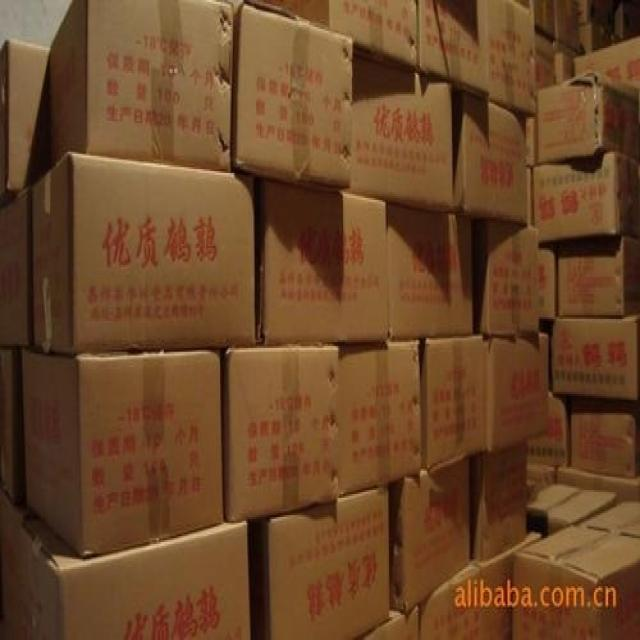box: (32, 150, 256, 354), (22, 346, 225, 557), (0, 490, 251, 640), (50, 0, 233, 173), (232, 2, 353, 192), (257, 179, 390, 346), (220, 344, 339, 525), (259, 484, 390, 640), (512, 500, 640, 640), (349, 56, 453, 213), (333, 338, 421, 496), (389, 455, 472, 613), (385, 198, 474, 344), (259, 2, 419, 73), (451, 83, 527, 225), (532, 150, 640, 242), (536, 69, 640, 163), (417, 334, 486, 471), (0, 40, 54, 200), (471, 217, 539, 336), (552, 311, 640, 400), (484, 331, 549, 450), (468, 440, 529, 563), (557, 234, 640, 319), (419, 0, 490, 94), (484, 530, 540, 640), (571, 396, 640, 479), (420, 561, 492, 640), (0, 186, 35, 348), (527, 484, 618, 540), (0, 346, 26, 504), (575, 35, 640, 90), (552, 465, 640, 505), (527, 394, 571, 467), (353, 603, 420, 640), (534, 29, 576, 86), (577, 23, 622, 62), (538, 242, 557, 321), (534, 27, 557, 88), (527, 463, 561, 504), (577, 0, 613, 33), (612, 0, 640, 40), (554, 0, 577, 48), (530, 0, 556, 38), (556, 40, 577, 83)
